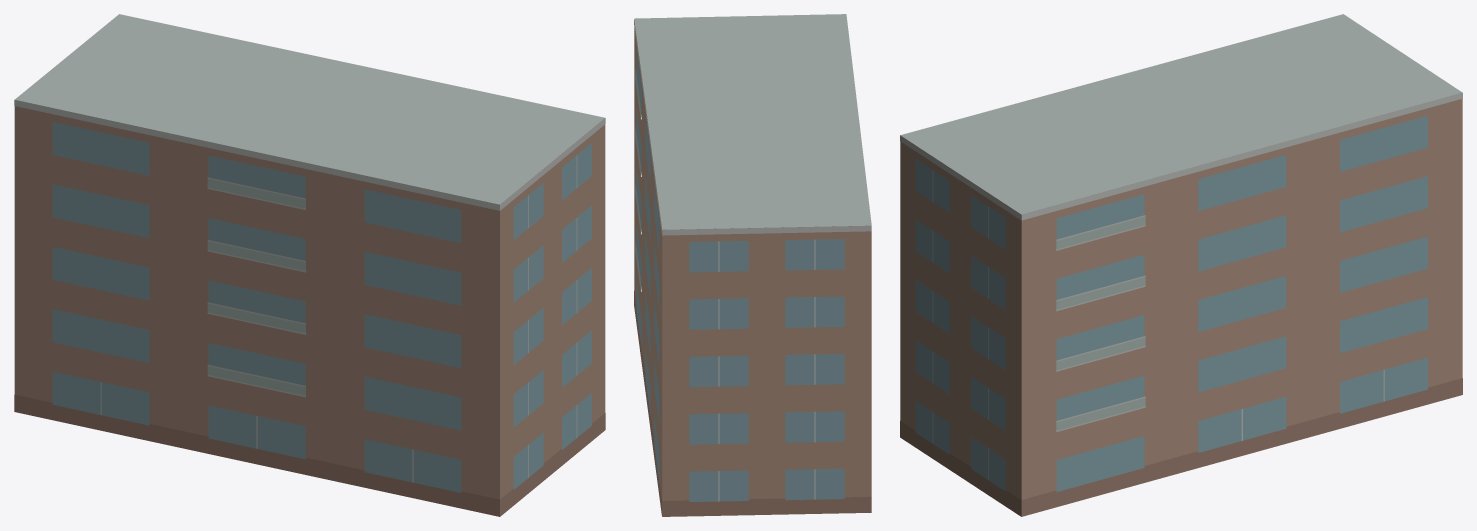
File: survey-upis-32752836.glb
3 views of the same model, side by side, from view 1: azimuth 30°, elevation 25°; view 2: azimuth 150°, elevation 25°; view 3: azimuth 270°, elevation 25° (orthographic). The views are drawn at different scales.
Visible parts, largest first — view 1: survey-upis-32752836.tmp; view 2: survey-upis-32752836.tmp; view 3: survey-upis-32752836.tmp.
Boxes of the visible parts, <box> form: survey-upis-32752836.tmp: <box>14,14,605,516</box>; survey-upis-32752836.tmp: <box>634,14,871,516</box>; survey-upis-32752836.tmp: <box>900,14,1462,516</box>.
Size of the model in its own units: 17.49 by 12.28 by 20.72.
